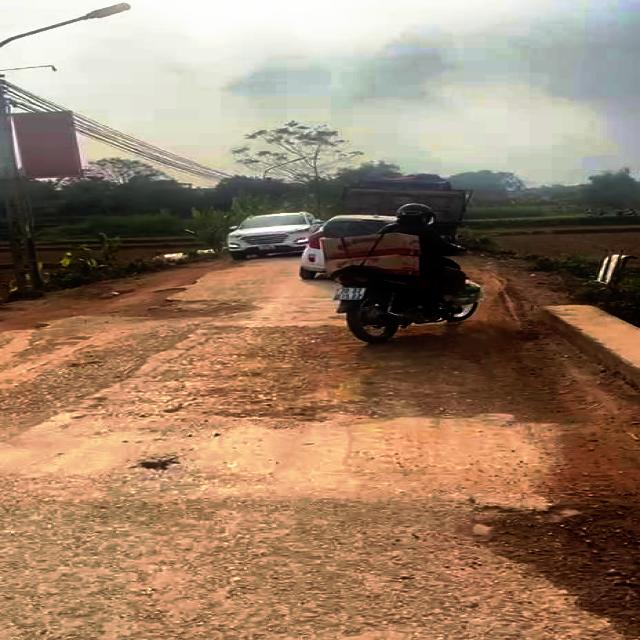pothole: (96, 287, 260, 322), (202, 399, 358, 426)
